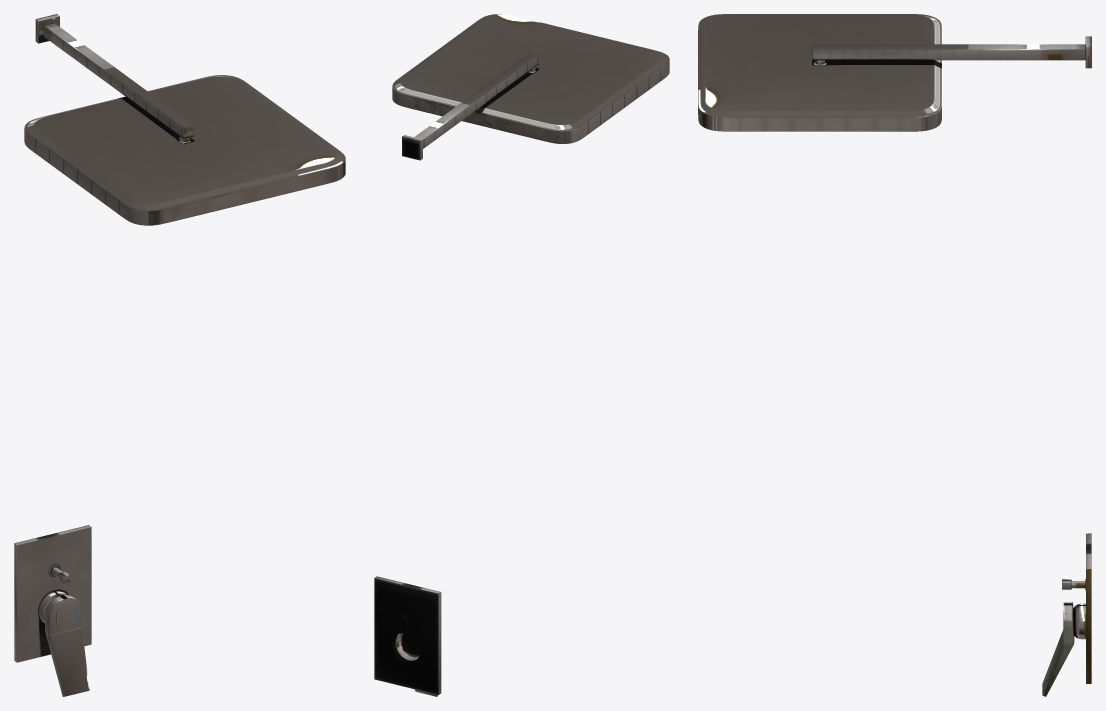
The model's file is rain_shower_black.glb.
The picture shows the model from 3 angles, left to right: view 1: azimuth 30°, elevation 25°; view 2: azimuth 150°, elevation 25°; view 3: azimuth 270°, elevation 25°; orthographic projection. The views are drawn at different scales.
Visible parts, largest first — view 1: rain_shower_black; view 2: rain_shower_black; view 3: rain_shower_black.
Part boxes in pixels (x1,y1,x2,y2): rain_shower_black: [14, 14, 345, 696]; rain_shower_black: [374, 14, 669, 696]; rain_shower_black: [698, 14, 1091, 696].
Size of the model in its own units: 0.3995 by 1.17 by 0.6446.
1 material, 1 textured.
